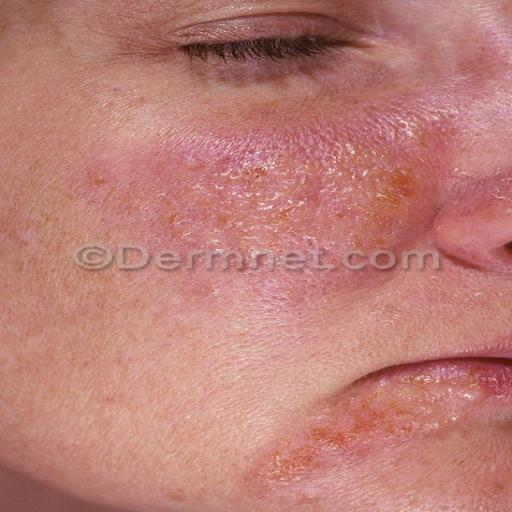Skin_Lesion: (120, 152, 236, 257), (336, 145, 426, 222), (255, 141, 322, 234), (361, 395, 448, 451), (254, 450, 329, 500), (315, 415, 352, 454)
